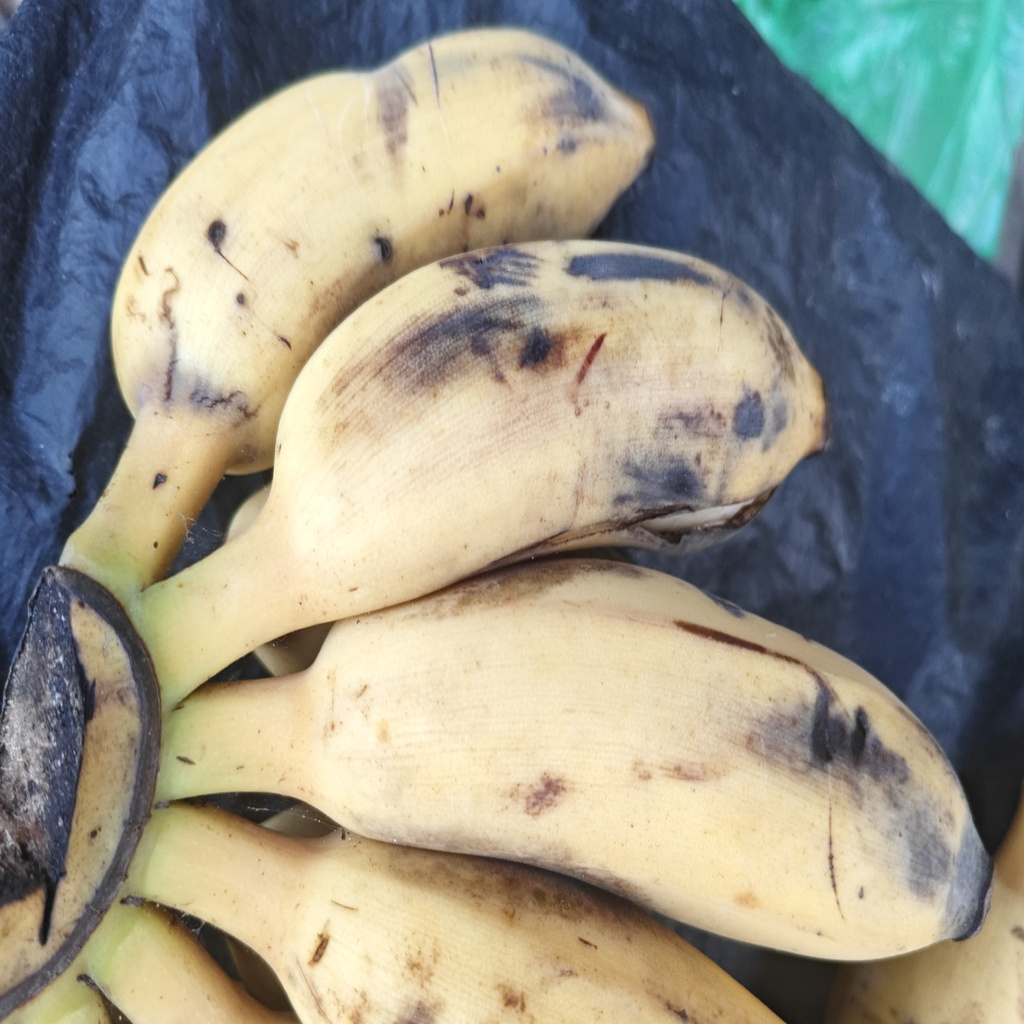healthy: (309, 555, 989, 964), (81, 29, 677, 470), (283, 240, 833, 607)
